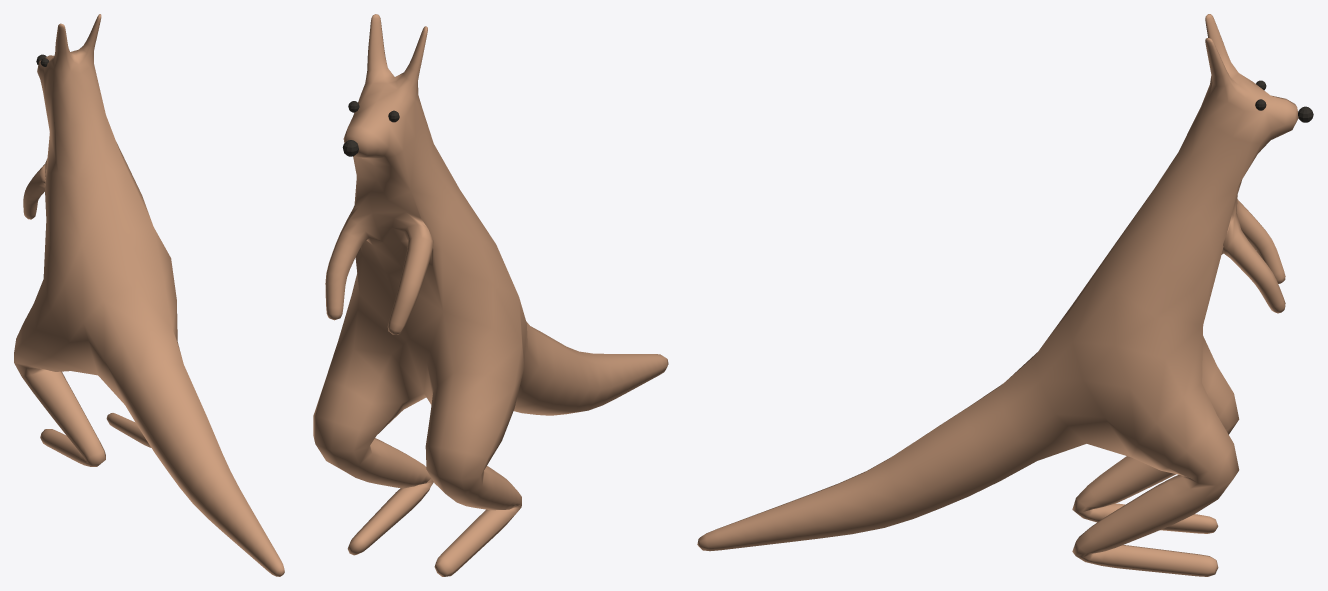
File: kangaroo.glb
The picture shows the model from 3 angles, left to right: view 1: azimuth 30°, elevation 25°; view 2: azimuth 150°, elevation 25°; view 3: azimuth 270°, elevation 25°; orthographic projection. The views are drawn at different scales.
Parts seen in each view (by area): view 1: kangaroo; view 2: kangaroo; view 3: kangaroo.
Part boxes in pixels (x1,y1,x2,y2): kangaroo: (14, 14, 284, 576); kangaroo: (313, 14, 668, 576); kangaroo: (697, 14, 1313, 576).
Bounding box in the file's own units: 0.4883 × 1.43 × 1.52.
